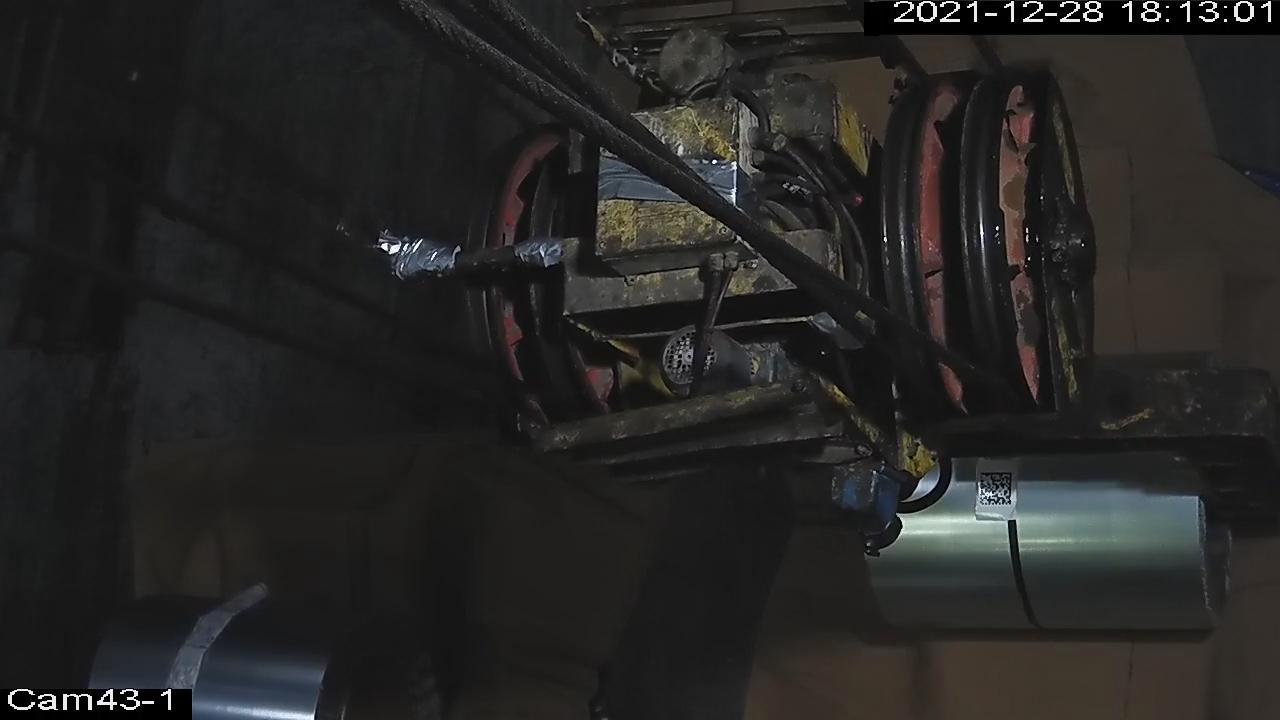data matrix: (979, 471, 1014, 508)
